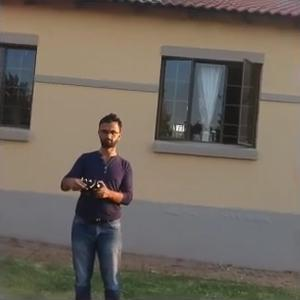follow: (53, 107, 135, 298)
